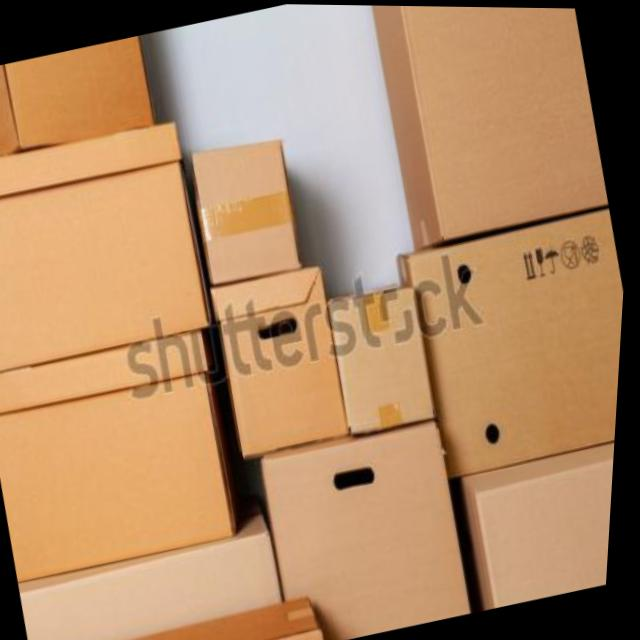box: (0, 317, 268, 597), (388, 206, 631, 485), (357, 4, 620, 249), (0, 110, 234, 382), (255, 408, 493, 640), (18, 508, 295, 640), (202, 259, 361, 470), (457, 434, 620, 610), (179, 128, 322, 291), (0, 34, 166, 167), (322, 272, 452, 437)
